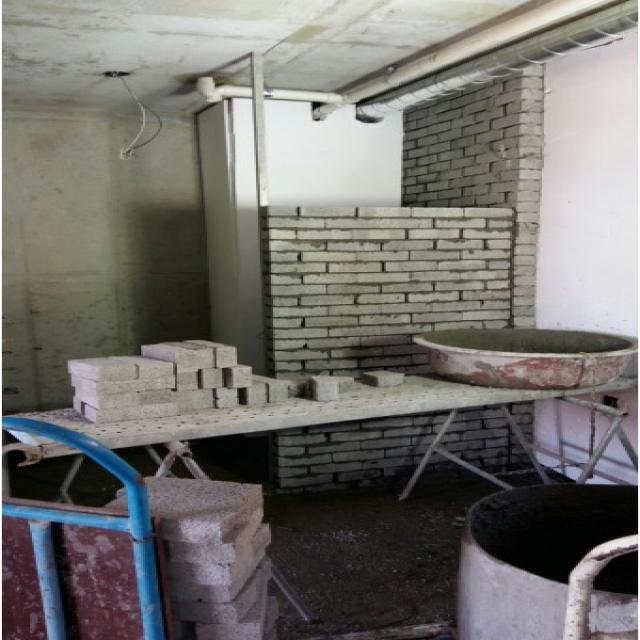basin: (452, 483, 640, 640), (414, 327, 640, 390)
brick: (311, 375, 339, 402), (364, 370, 404, 388)
bricks: (259, 206, 516, 489), (404, 63, 544, 328), (106, 476, 279, 640), (67, 339, 287, 424)
